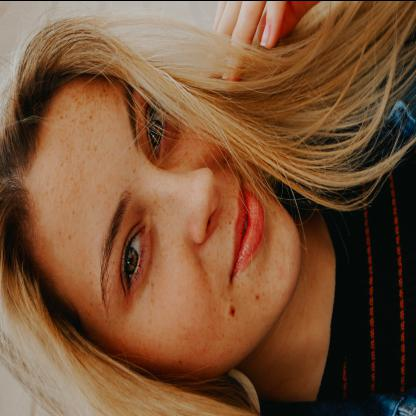Eye: (121, 216, 153, 303), (146, 100, 176, 161)
Mouth: (228, 178, 265, 284)
Nose: (145, 164, 221, 242)
